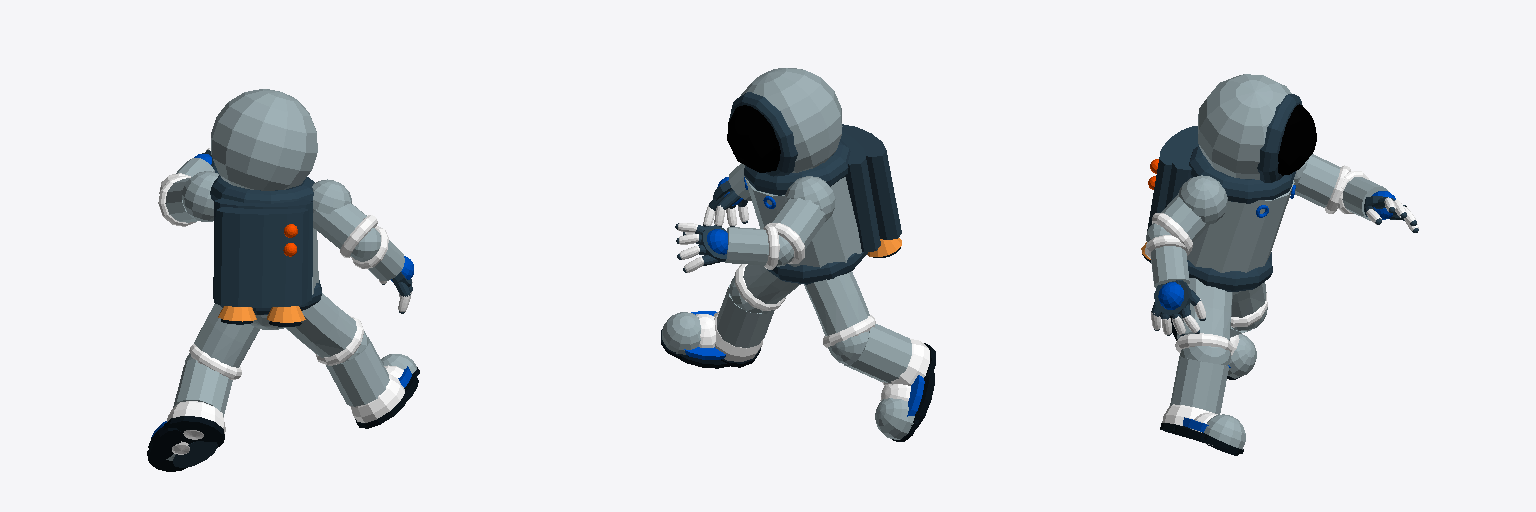
The picture shows the model from 3 angles: view 1: azimuth 30°, elevation 25°; view 2: azimuth 150°, elevation 25°; view 3: azimuth 270°, elevation 25°; orthographic projection.
Visible parts, largest first — view 1: group[number redacted], group[number redacted], group[number redacted], group[number redacted], group[number redacted], group[number redacted], group[number redacted], group[number redacted], group[number redacted], group[number redacted], group[number redacted], group[number redacted] (+11 smaller); view 2: group[number redacted], group[number redacted], group[number redacted], group[number redacted], group[number redacted], group[number redacted], group[number redacted], group[number redacted], group[number redacted], group[number redacted], group[number redacted], group[number redacted] (+11 smaller); view 3: group[number redacted], group[number redacted], group[number redacted], group[number redacted], group[number redacted], group[number redacted], group[number redacted], group[number redacted], group[number redacted], group[number redacted], group[number redacted], group[number redacted] (+11 smaller).
Part boxes in pixels (left/top/right/bottom): group[number redacted]: left=211, top=89, right=317, bottom=190; group[number redacted]: left=214, top=207, right=308, bottom=307; group[number redacted]: left=286, top=293, right=356, bottom=357; group[number redacted]: left=326, top=337, right=389, bottom=406; group[number redacted]: left=194, top=304, right=259, bottom=367; group[number redacted]: left=173, top=359, right=232, bottom=416; group[number redacted]: left=210, top=175, right=314, bottom=203; group[number redacted]: left=313, top=203, right=366, bottom=248; group[number redacted]: left=182, top=171, right=218, bottom=221; group[number redacted]: left=213, top=198, right=312, bottom=301; group[number redacted]: left=350, top=374, right=404, bottom=422; group[number redacted]: left=312, top=179, right=351, bottom=213; group[number redacted]: left=741, top=68, right=842, bottom=172; group[number redacted]: left=745, top=177, right=861, bottom=267; group[number redacted]: left=727, top=105, right=780, bottom=172; group[number redacted]: left=804, top=271, right=869, bottom=335; group[number redacted]: left=842, top=124, right=901, bottom=239; group[number redacted]: left=844, top=324, right=911, bottom=382; group[number redacted]: left=841, top=132, right=880, bottom=251; group[number redacted]: left=717, top=285, right=774, bottom=347; group[number redacted]: left=744, top=139, right=850, bottom=195; group[number redacted]: left=729, top=92, right=797, bottom=176; group[number redacted]: left=725, top=227, right=768, bottom=265; group[number redacted]: left=771, top=198, right=825, bottom=248; group[number redacted]: left=1198, top=74, right=1291, bottom=179; group[number redacted]: left=1187, top=180, right=1294, bottom=272; group[number redacted]: left=1170, top=356, right=1228, bottom=414; group[number redacted]: left=1189, top=146, right=1295, bottom=203; group[number redacted]: left=1278, top=104, right=1316, bottom=175; group[number redacted]: left=1177, top=278, right=1232, bottom=340; group[number redacted]: left=1179, top=175, right=1227, bottom=224; group[number redacted]: left=1257, top=94, right=1302, bottom=182; group[number redacted]: left=1295, top=154, right=1340, bottom=207; group[number redacted]: left=1187, top=252, right=1272, bottom=291; group[number redacted]: left=1147, top=126, right=1197, bottom=230; group[number redacted]: left=1151, top=246, right=1189, bottom=287.
Bounding box in the file's own units: 0.8689 × 1.09 × 0.7852.